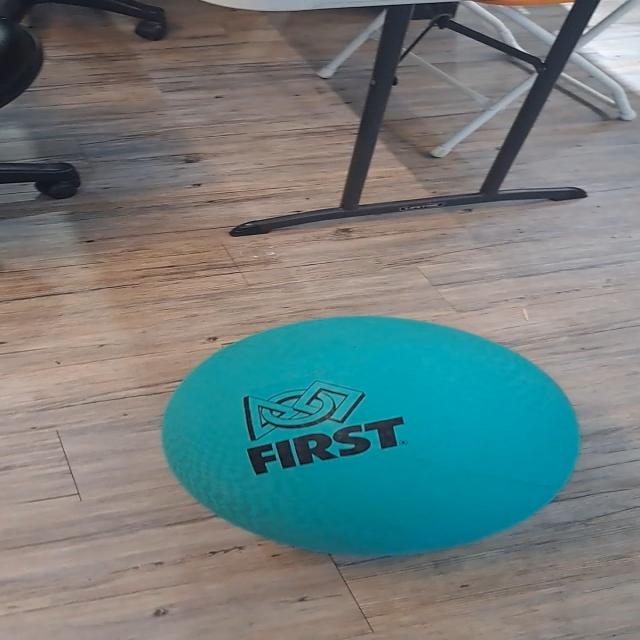ALGAE: (158, 314, 582, 558)
